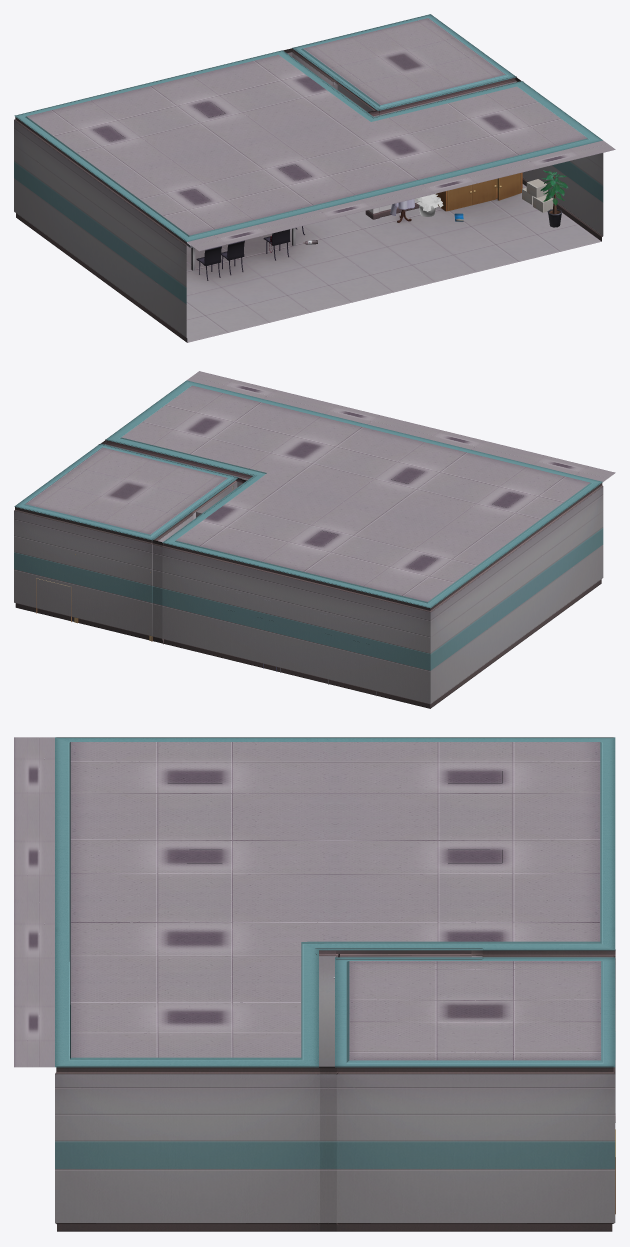
Rendered from YiYuanXiuXiShi_01.FBX.
3 views of the same model, one above another, from view 1: azimuth 30°, elevation 25°; view 2: azimuth 150°, elevation 25°; view 3: azimuth 270°, elevation 25° (orthographic). The views are drawn at different scales.
Parts seen in each view (by area): view 1: XiuXiShi_qiangbi_01, Object001, XiuXiShi_chuanggui_01, XiuXiShi_zhuoyi_01, XiuXiShi_penzai_01; view 2: XiuXiShi_qiangbi_01, Object001; view 3: Object001, XiuXiShi_qiangbi_01.
Part boxes in pixels (bbox=[...]): XiuXiShi_qiangbi_01: bbox=[14, 14, 603, 342]; Object001: bbox=[14, 50, 615, 251]; XiuXiShi_chuanggui_01: bbox=[390, 172, 522, 222]; XiuXiShi_zhuoyi_01: bbox=[187, 226, 304, 280]; XiuXiShi_penzai_01: bbox=[540, 170, 568, 227]; XiuXiShi_qiangbi_01: bbox=[14, 386, 603, 708]; Object001: bbox=[105, 371, 615, 608]; Object001: bbox=[14, 737, 615, 1067]; XiuXiShi_qiangbi_01: bbox=[55, 737, 615, 1231].
Size of the model in its own units: 6041 by 1418 by 4651.
